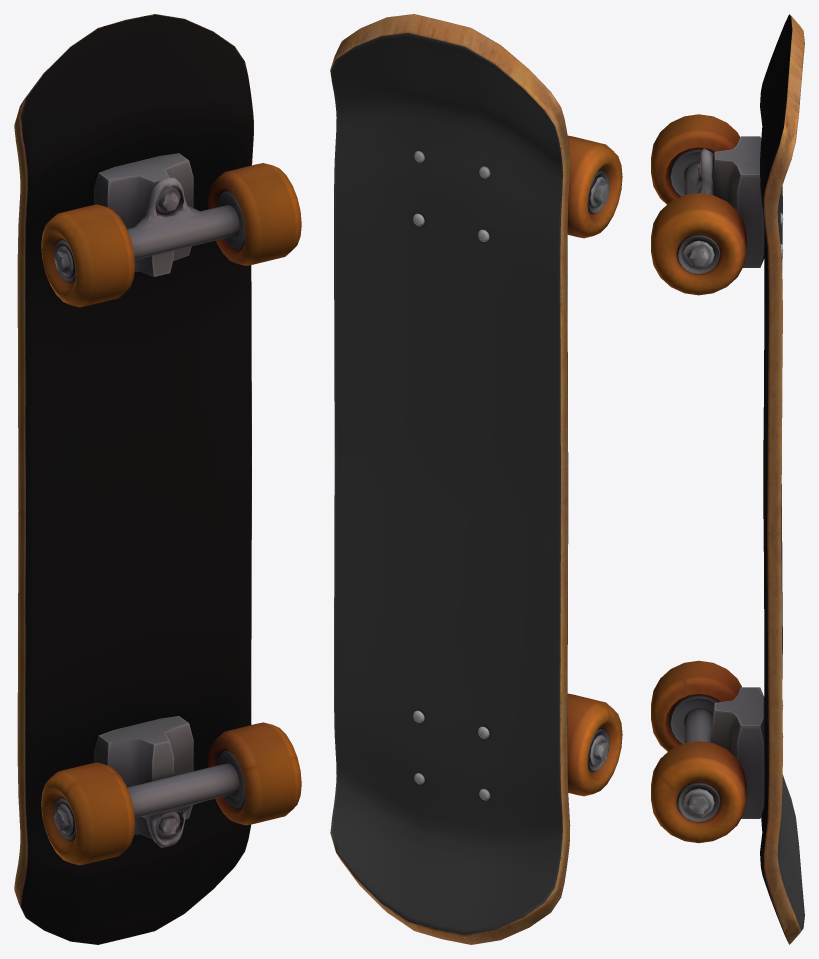
Rendered from Skateboard.fbx.
3 renders of one model, left to right at view 1: azimuth 30°, elevation 25°; view 2: azimuth 150°, elevation 25°; view 3: azimuth 270°, elevation 25°, orthographic. The views are drawn at different scales.
Parts seen in each view (by area): view 1: Skate.001; view 2: Skate.001; view 3: Skate.001.
Part boxes in pixels (x1=…): Skate.001: x1=14, y1=14, x2=301, y2=944; Skate.001: x1=330, y1=14, x2=622, y2=944; Skate.001: x1=651, y1=14, x2=804, y2=944.
Size of the model in its own units: 3.15 by 12.04 by 1.87.
